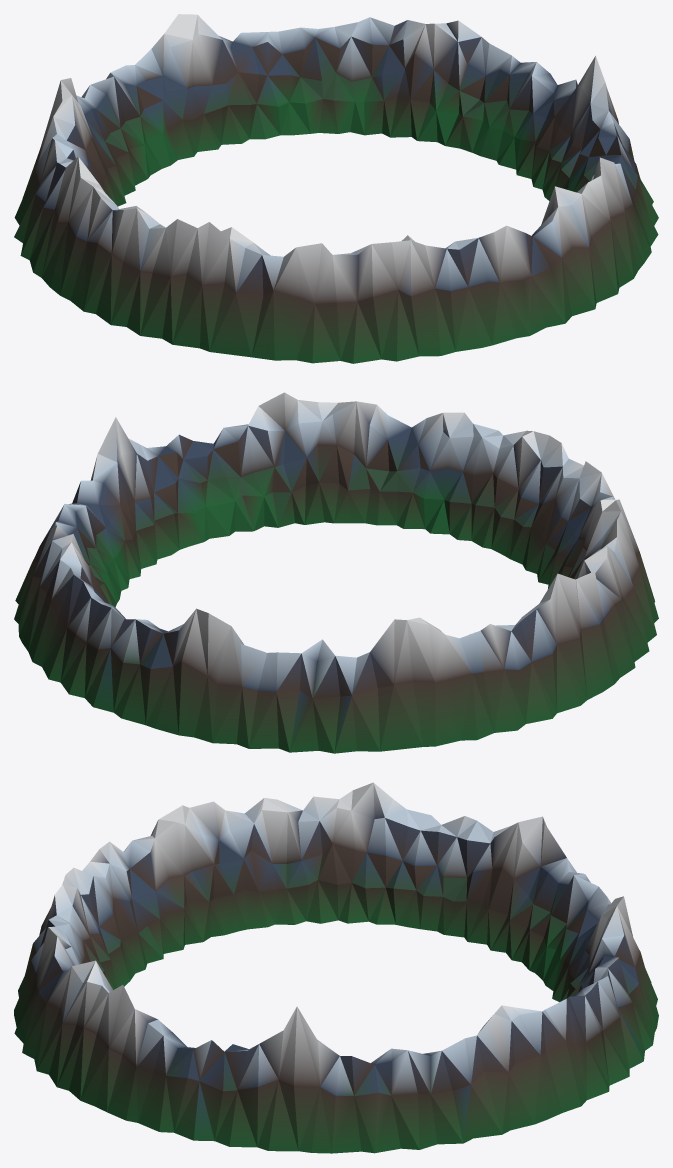
The model's file is earth_mountains_craggy.glb.
3 renders of one model, top to bottom at view 1: azimuth 30°, elevation 25°; view 2: azimuth 150°, elevation 25°; view 3: azimuth 270°, elevation 25°, orthographic.
Parts seen in each view (by area): view 1: CraggyMountains; view 2: CraggyMountains; view 3: CraggyMountains.
Part boxes in pixels (left/top/right/bottom): CraggyMountains: left=14, top=14, right=658, bottom=363; CraggyMountains: left=14, top=392, right=658, bottom=753; CraggyMountains: left=14, top=782, right=658, bottom=1153.
Bounding box in the file's own units: 365 × 80.25 × 365.
